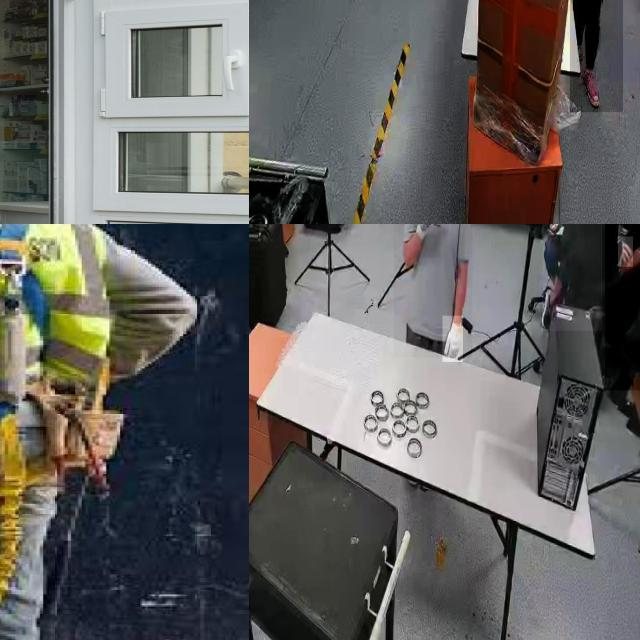Harness: (0, 224, 126, 520)
hand_glove: (442, 316, 463, 362), (413, 224, 440, 258)
hand_noglove: (618, 236, 634, 268)
person: (394, 224, 473, 358), (542, 224, 603, 332), (604, 224, 640, 391), (570, 0, 623, 113)
shoes: (581, 62, 604, 116)
